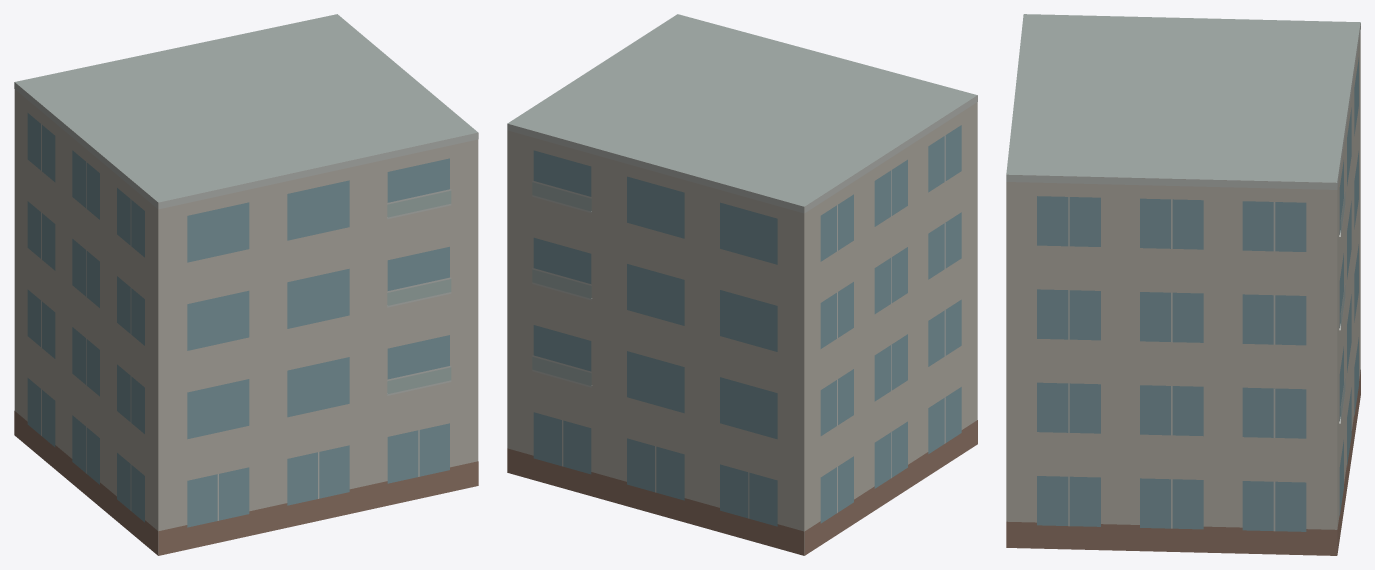
File: survey-upis-32533760.glb
3 renders of one model, left to right at view 1: azimuth 30°, elevation 25°; view 2: azimuth 150°, elevation 25°; view 3: azimuth 270°, elevation 25°, orthographic. The views are drawn at different scales.
Parts seen in each view (by area): view 1: survey-upis-32533760.tmp; view 2: survey-upis-32533760.tmp; view 3: survey-upis-32533760.tmp.
Boxes of the visible parts, box(x1,y1,x2,y2) form: survey-upis-32533760.tmp: box(14, 14, 478, 555); survey-upis-32533760.tmp: box(507, 14, 977, 555); survey-upis-32533760.tmp: box(1006, 14, 1360, 555).
Size of the model in its own units: 12.29 by 12.65 by 10.9.
